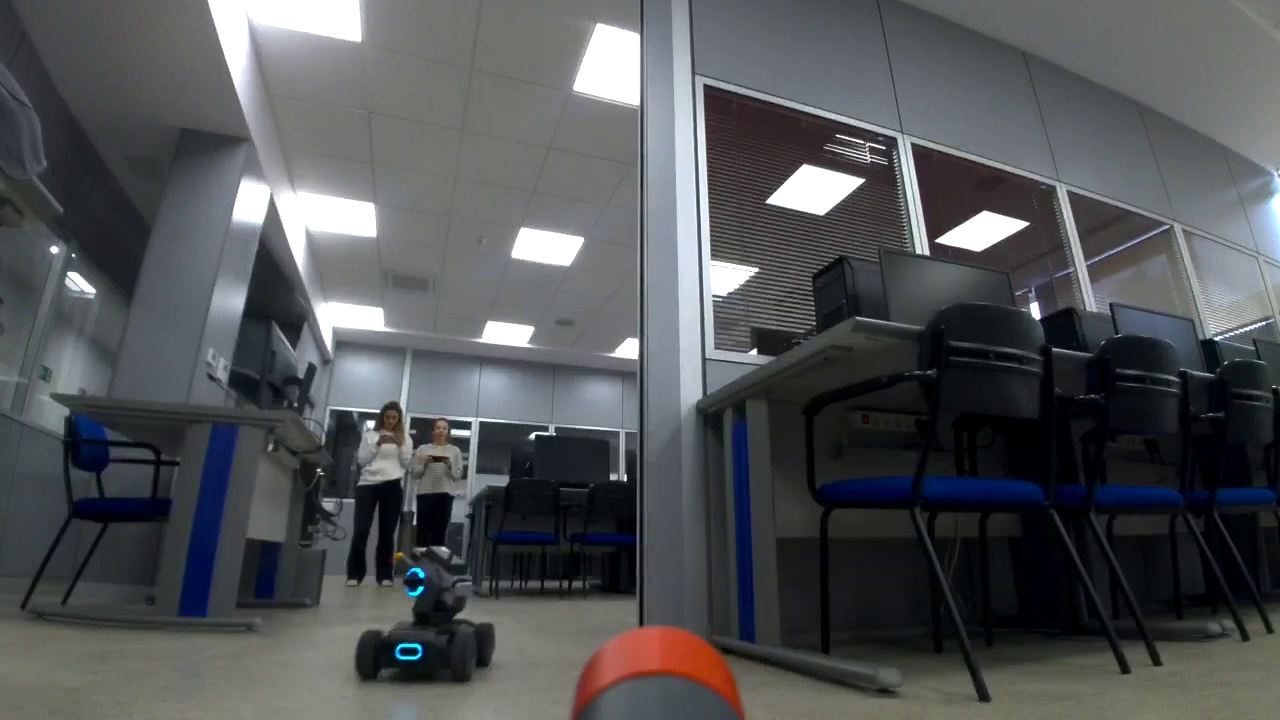robot: (352, 543, 496, 687)
